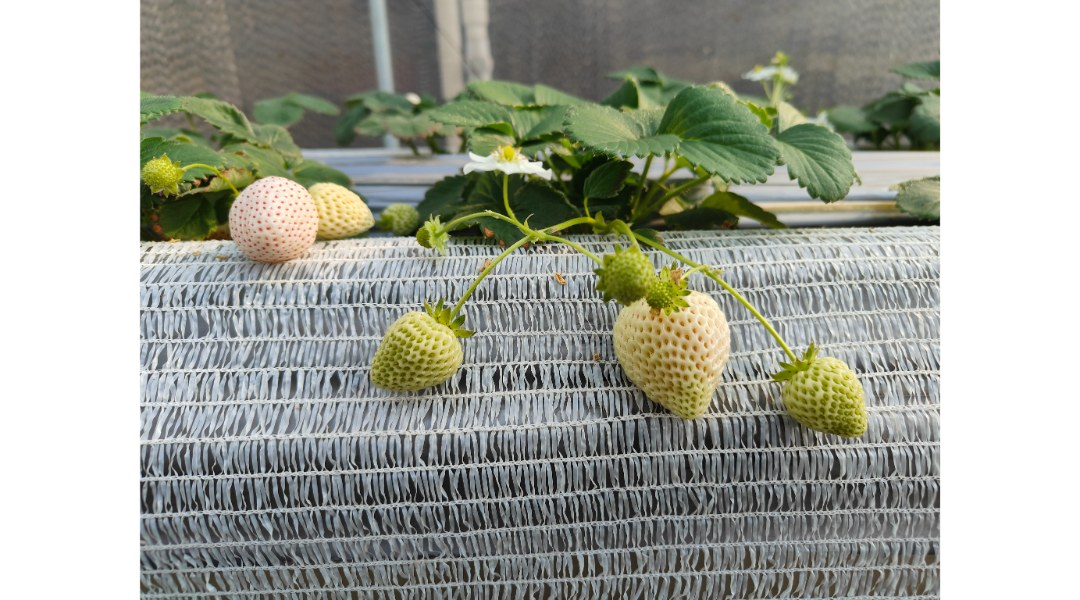berry: (617, 271, 731, 434), (367, 302, 470, 410), (204, 167, 314, 266), (785, 340, 873, 442), (306, 172, 366, 246), (596, 239, 651, 319), (138, 145, 201, 205), (649, 267, 697, 312), (377, 195, 422, 235), (411, 215, 455, 253)
flower: (450, 139, 571, 182)
strain: (715, 280, 802, 354), (454, 239, 525, 315), (637, 231, 719, 276), (497, 173, 521, 217), (546, 218, 599, 236)
